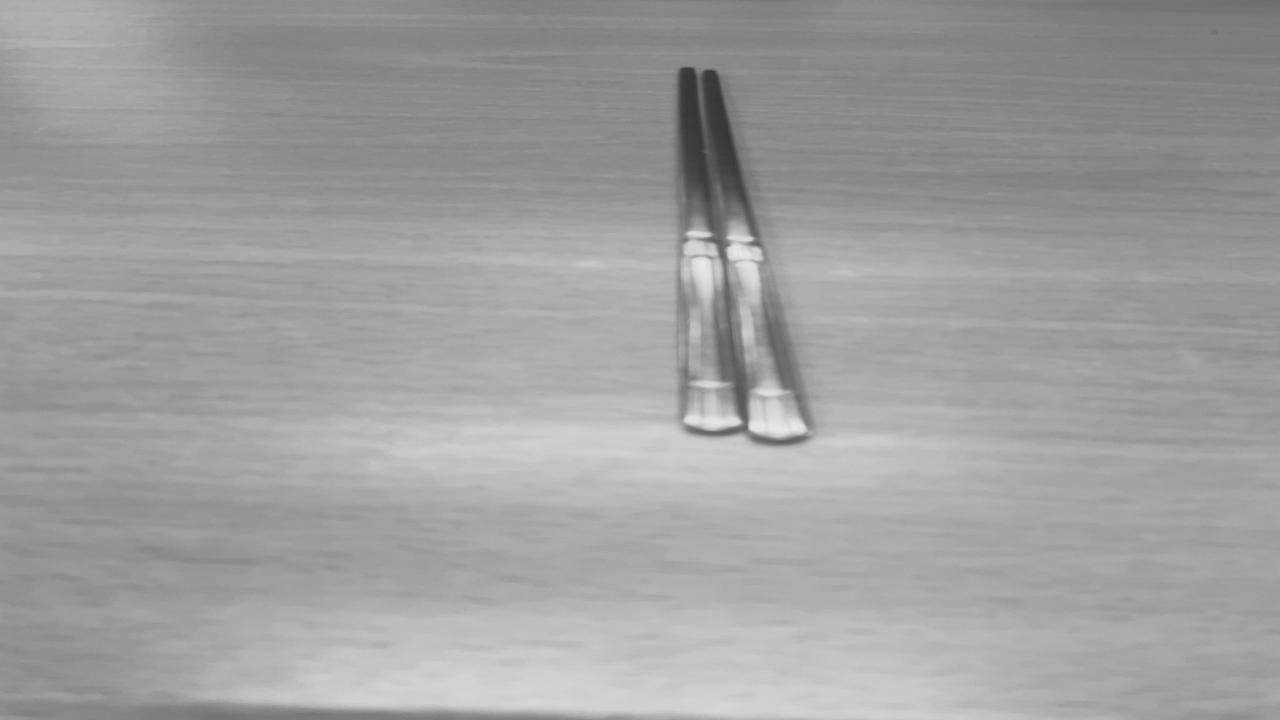chopstick: (678, 68, 808, 436)
